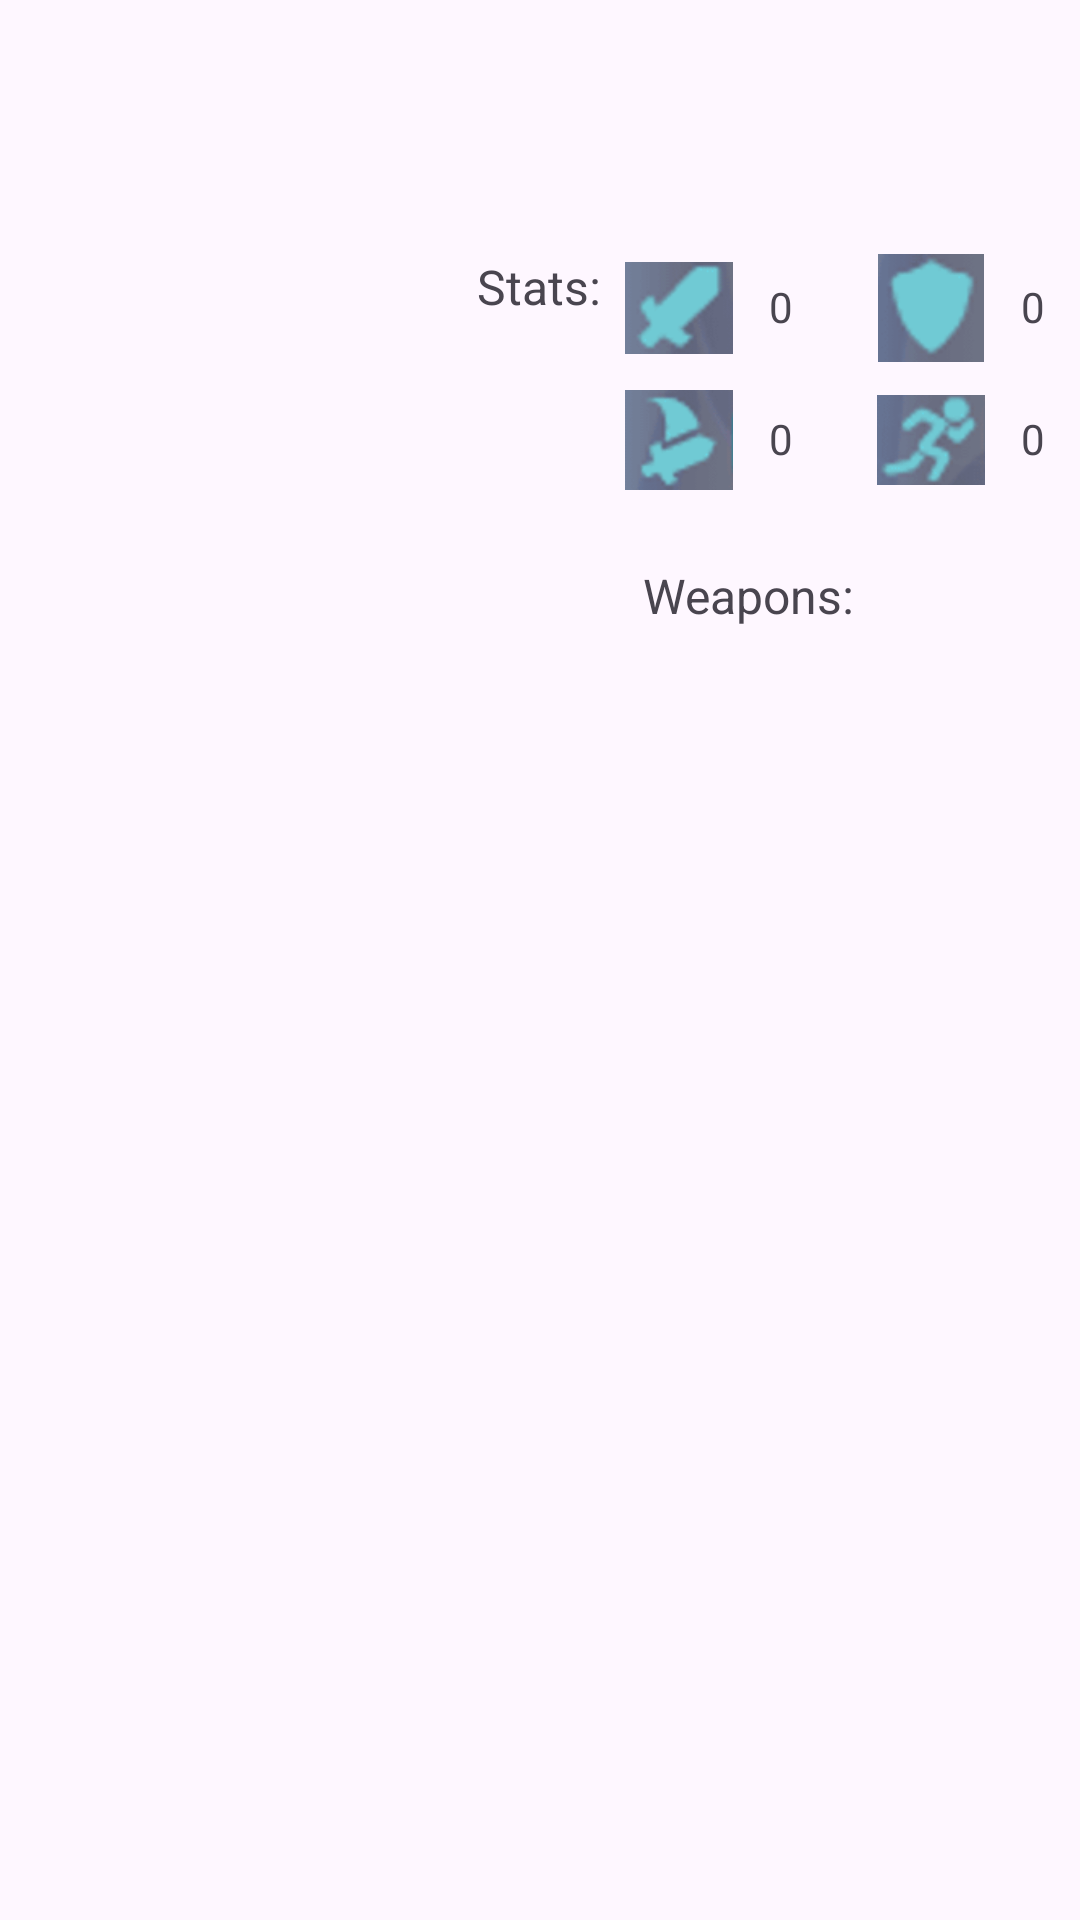

Where to tap for icons on this 1080*1920 app screen, as (x=x, y=y):
damage: (x=679, y=308)
defense: (x=931, y=308)
dexterity: (x=679, y=440)
speed: (x=931, y=440)
